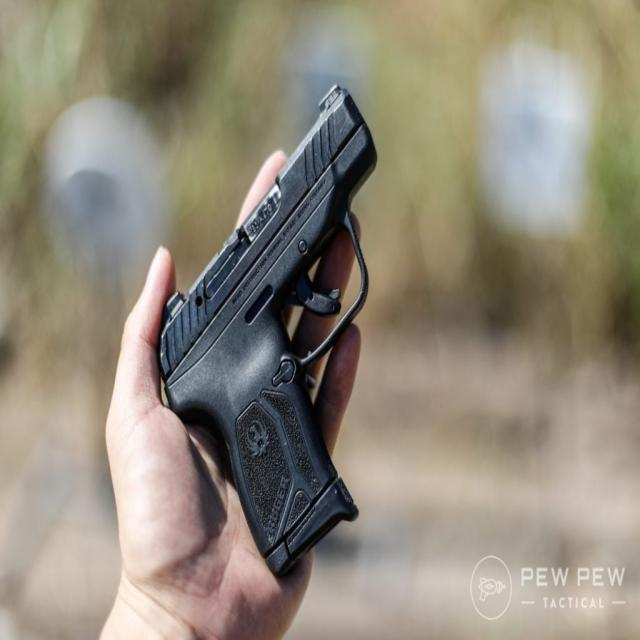HandGun: (159, 85, 378, 578)
